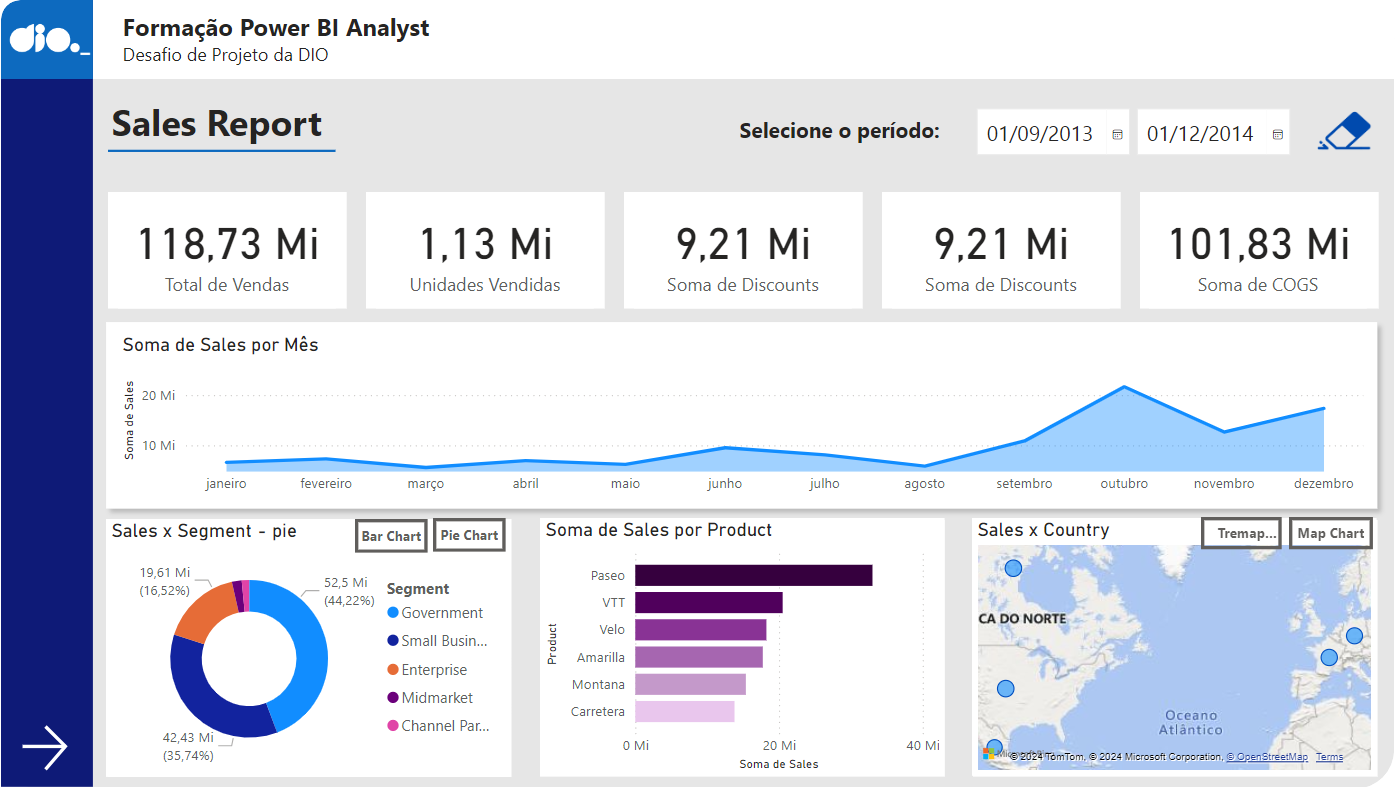

What the dashboard file says about the page in this screenshot:
{"tool":"powerbi","page":{"name":"Página 1","canvas":[1280,720],"ordinal":0},"visuals":[{"type":"shape","box":[18.5,16.8,1243,703.8],"z":0},{"type":"shape","box":[113.8,188.7,213.3,104.1],"z":0,"group":"g1"},{"type":"clusteredBarChart","title":"Sales x Segment","fields":{"Y":["Sum(financials. Sales)"],"Category":["financials.Segment"]},"box":[113.7,479.5,360,230.4],"z":0,"group":"g4"},{"type":"map","title":"Sales x Country","fields":{"Category":["financials.Country"],"Size":["Sum(financials. Sales)"]},"box":[885.6,479.5,361.4,230.4],"z":0,"group":"g3"},{"type":"shape","box":[18.5,16.8,82.3,702.2],"z":1000},{"type":"slicer","fields":{"Values":["financials.Date"]},"box":[875.5,103.7,309.6,64.8],"z":1000,"group":"g2"},{"type":"shape","box":[343.9,188.7,213.3,104.1],"z":1000,"group":"g1"},{"type":"actionButton","title":"Botão - map","box":[1168.4,478.3,74.9,28.8],"z":1250,"group":"g3"},{"type":"actionButton","title":"Botão - tremap","box":[1089.2,478.3,72,28.8],"z":1500,"group":"g3"},{"type":"actionButton","title":"Botão - bar","box":[334.1,479.5,64.8,30.2],"z":1500,"group":"g4"},{"type":"shape","box":[18.5,16.8,82.3,70.6],"z":2000},{"type":"textbox","box":[672.5,115.2,203,41.8],"z":2000,"group":"g2"},{"type":"shape","box":[574.1,188.7,213.3,104.1],"z":2000,"group":"g1"},{"type":"actionButton","title":"Botão - pie","box":[404.4,478.9,64.8,30.2],"z":2000,"group":"g4"},{"type":"actionButton","box":[1189.5,112.3,51.8,47.5],"z":2250,"group":"g2"},{"type":"image","title":"clean","box":[1185.1,103.7,61.9,60.5],"z":2500,"group":"g2"},{"type":"image","title":"logo_dio","box":[21.6,17.3,82.1,70.6],"z":3000},{"type":"shape","box":[804.2,188.7,213.3,104.1],"z":3000,"group":"g1"},{"type":"shape","box":[100.8,16.8,1160.7,70.6],"z":4000},{"type":"shape","box":[1034.3,188.7,213.3,104.1],"z":4000,"group":"g1"},{"type":"shape","box":[113.8,2,203,299.5],"z":5000,"group":"g1"},{"type":"textbox","box":[122.6,21.8,367.9,58.8],"z":5000},{"type":"group","id":"g1","title":"Cartões","box":[113.8,2,1133.9,299.5],"z":6000},{"type":"card","fields":{"Values":["Sum(financials. Sales)"]},"box":[122.4,188.7,194.4,103.7],"z":6000,"group":"g1"},{"type":"textbox","box":[112.3,97.9,211.7,57.6],"z":7000},{"type":"card","fields":{"Values":["Sum(financials.Units Sold)"]},"box":[352.8,188.7,194.4,103.7],"z":7000,"group":"g1"},{"type":"card","fields":{"Values":["Sum(financials.Discounts)"]},"box":[583.2,188.7,194.4,103.7],"z":8000,"group":"g1"},{"type":"shape","box":[103.7,295.2,1152,184.3],"z":8000},{"type":"card","fields":{"Values":["Sum(financials.Discounts)"]},"box":[813.6,188.7,194.4,103.7],"z":9000,"group":"g1"},{"type":"shape","box":[112.3,481,361.4,229],"z":9000},{"type":"card","fields":{"Values":["Sum(financials.COGS)"]},"box":[1042.6,188.7,194.4,103.7],"z":10000,"group":"g1"},{"type":"shape","box":[499.7,481,361.4,229],"z":10000},{"type":"shape","box":[885.6,481,361.4,229],"z":11000},{"type":"areaChart","fields":{"Category":["financials.Date.Variation.Hierarquia de datas.Mês"],"Y":["Sum(financials. Sales)"]},"box":[122.4,313.9,1117.4,152.6],"z":12000},{"type":"clusteredBarChart","fields":{"Y":["Sum(financials. Sales)"],"Category":["financials.Product"]},"box":[499.7,479.5,361.4,230.4],"z":13000},{"type":"group","id":"g2","title":"Filtro por data","box":[672.5,103.7,574.6,64.8],"z":14000},{"type":"group","id":"g3","title":"Sales x País","box":[885.2,478.3,362.3,232.6],"z":15000},{"type":"group","id":"g4","title":"Sales x Segmento","box":[112.3,478.9,361.4,231],"z":16000},{"type":"actionButton","box":[31,658.1,56.9,51.7],"z":17000}]}

Visuals, with their boxes on the page's 1280x720 design canvas (x1, y1, x2, y2). These are canvas units, not pixel positions in the 1396x787 screenshot, which may show the page scaled, cropped or inside an application window:
shape: box=[18, 17, 1262, 721]
shape: box=[114, 189, 327, 293]
"Sales x Segment" clusteredBarChart: box=[114, 480, 474, 710]
"Sales x Country" map: box=[886, 480, 1247, 710]
shape: box=[18, 17, 101, 719]
slicer - financials.Date: box=[876, 104, 1185, 168]
shape: box=[344, 189, 557, 293]
"Botão - map" actionButton: box=[1168, 478, 1243, 507]
"Botão - tremap" actionButton: box=[1089, 478, 1161, 507]
"Botão - bar" actionButton: box=[334, 480, 399, 510]
shape: box=[18, 17, 101, 87]
textbox: box=[672, 115, 876, 157]
shape: box=[574, 189, 787, 293]
"Botão - pie" actionButton: box=[404, 479, 469, 509]
actionButton: box=[1190, 112, 1241, 160]
"clean" image: box=[1185, 104, 1247, 164]
"logo_dio" image: box=[22, 17, 104, 88]
shape: box=[804, 189, 1018, 293]
shape: box=[101, 17, 1262, 87]
shape: box=[1034, 189, 1248, 293]
shape: box=[114, 2, 317, 302]
textbox: box=[123, 22, 490, 81]
"Cartões" group: box=[114, 2, 1248, 302]
card - Sum(financials. Sales): box=[122, 189, 317, 292]
textbox: box=[112, 98, 324, 156]
card - Sum(financials.Units Sold): box=[353, 189, 547, 292]
card - Sum(financials.Discounts): box=[583, 189, 778, 292]
shape: box=[104, 295, 1256, 480]
card - Sum(financials.Discounts): box=[814, 189, 1008, 292]
shape: box=[112, 481, 474, 710]
card - Sum(financials.COGS): box=[1043, 189, 1237, 292]
shape: box=[500, 481, 861, 710]
shape: box=[886, 481, 1247, 710]
areaChart - financials.Date.Variation.Hierarquia de datas.Mês x Sum(financials. Sales): box=[122, 314, 1240, 466]
clusteredBarChart - Sum(financials. Sales) x financials.Product: box=[500, 480, 861, 710]
"Filtro por data" group: box=[672, 104, 1247, 168]
"Sales x País" group: box=[885, 478, 1248, 711]
"Sales x Segmento" group: box=[112, 479, 474, 710]
actionButton: box=[31, 658, 88, 710]
